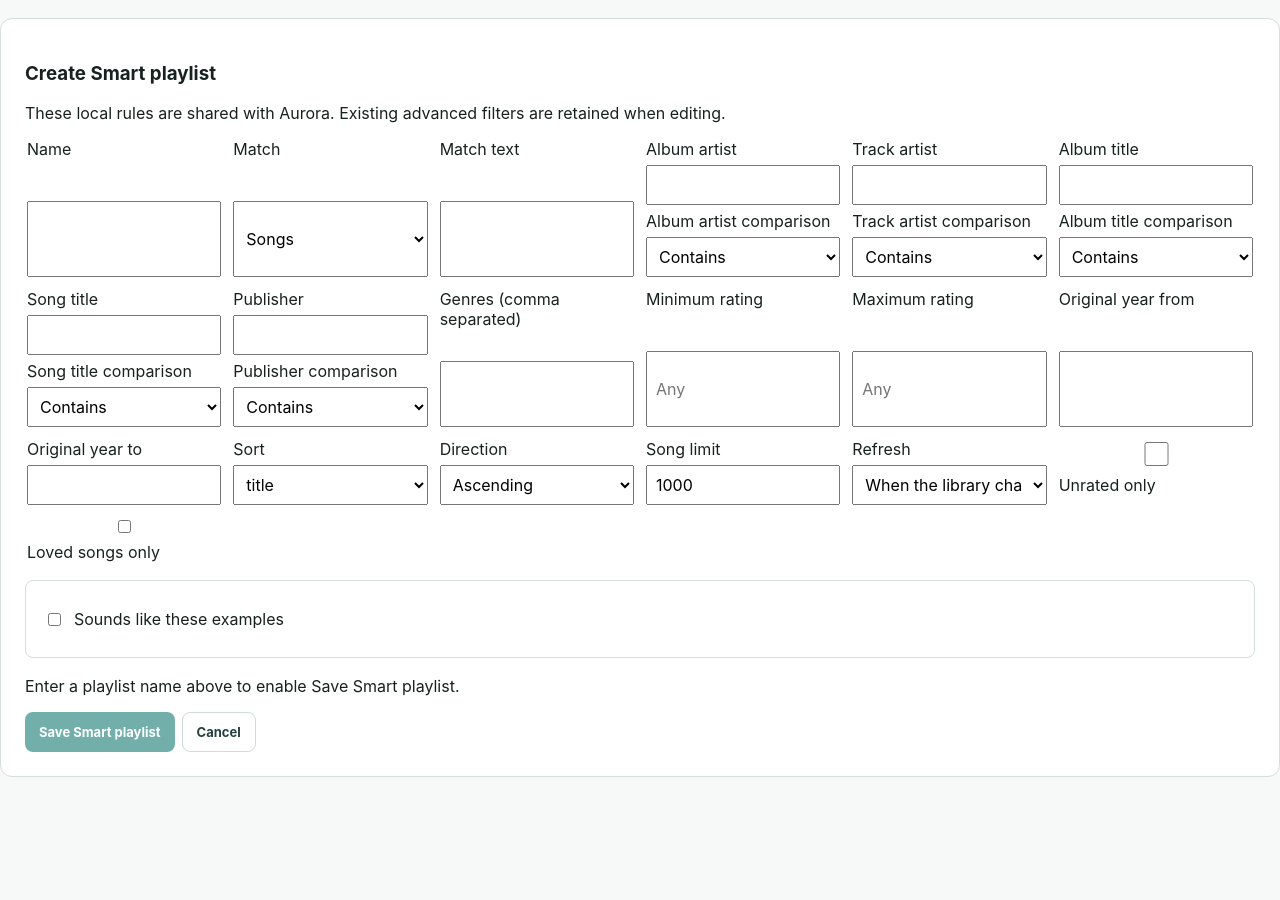
saves album stars in native points and stores limits and manual policy
Type "Album rules" into the field labelled "Name" at coordinates (124, 239), box [27,201,221,277]
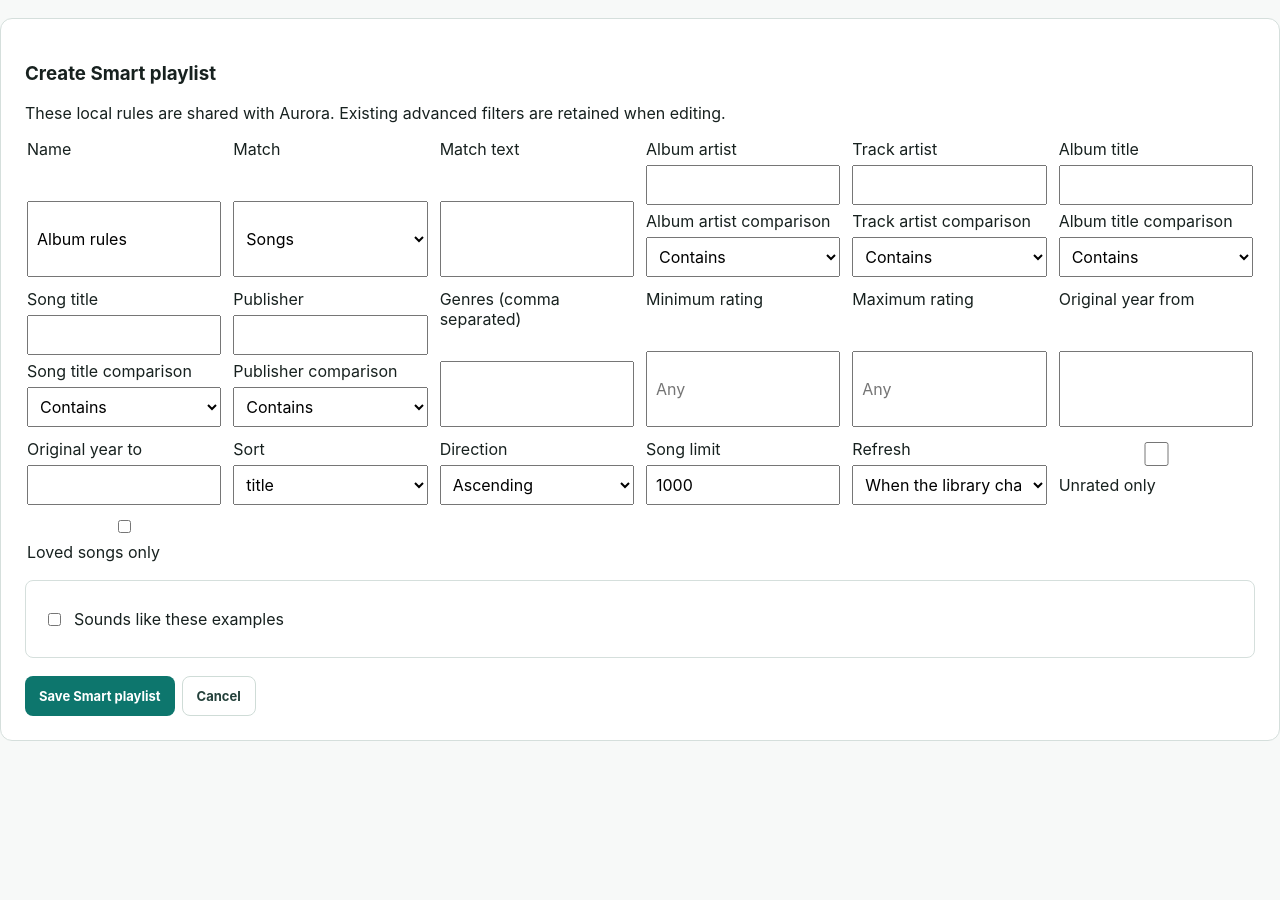
Select "Albums — all their songs" in the dropdown labelled "Match" at coordinates (330, 239), box [233,201,428,277]
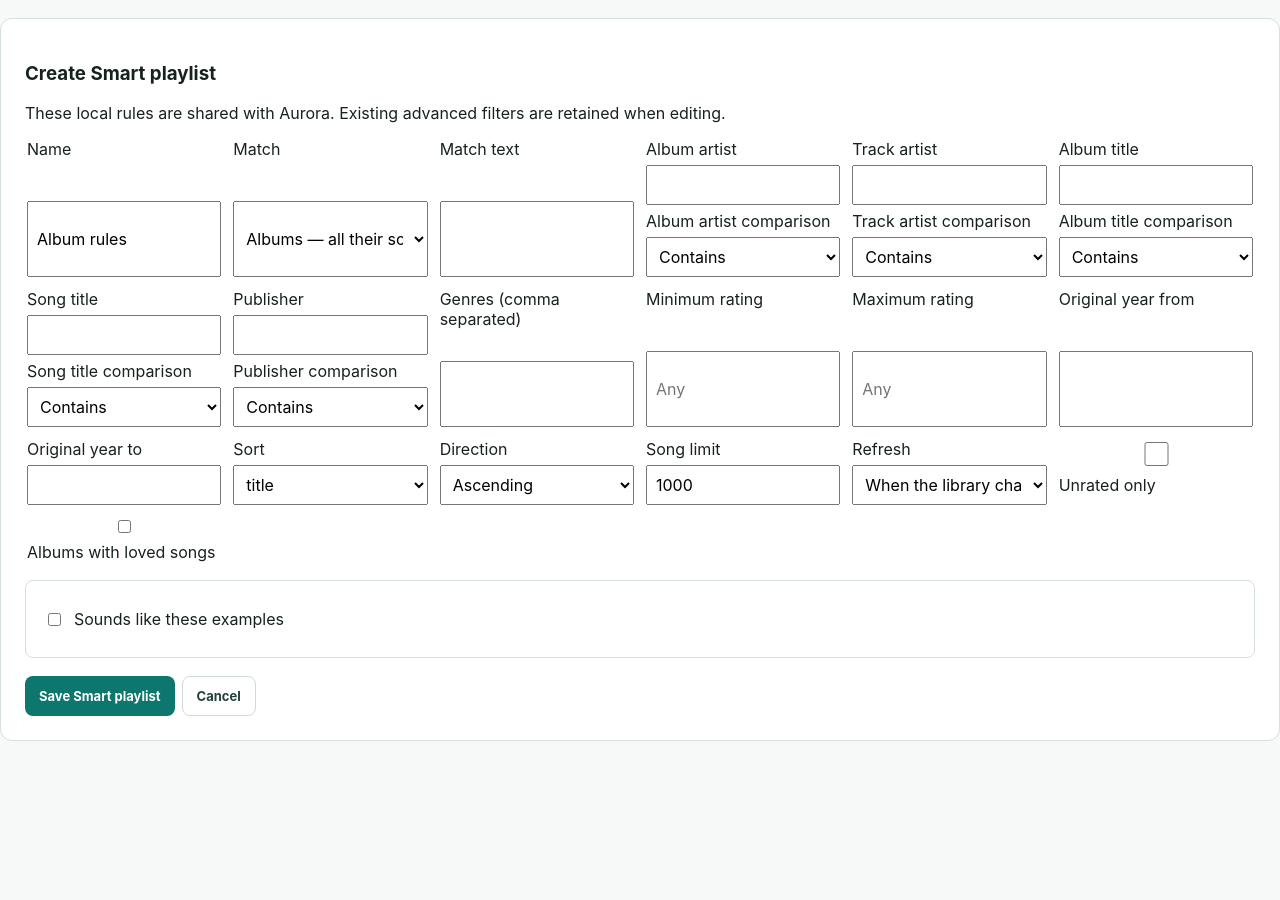
Type "4.25" into the number field labelled "Minimum rating" at coordinates (743, 389), box [646,351,840,427]
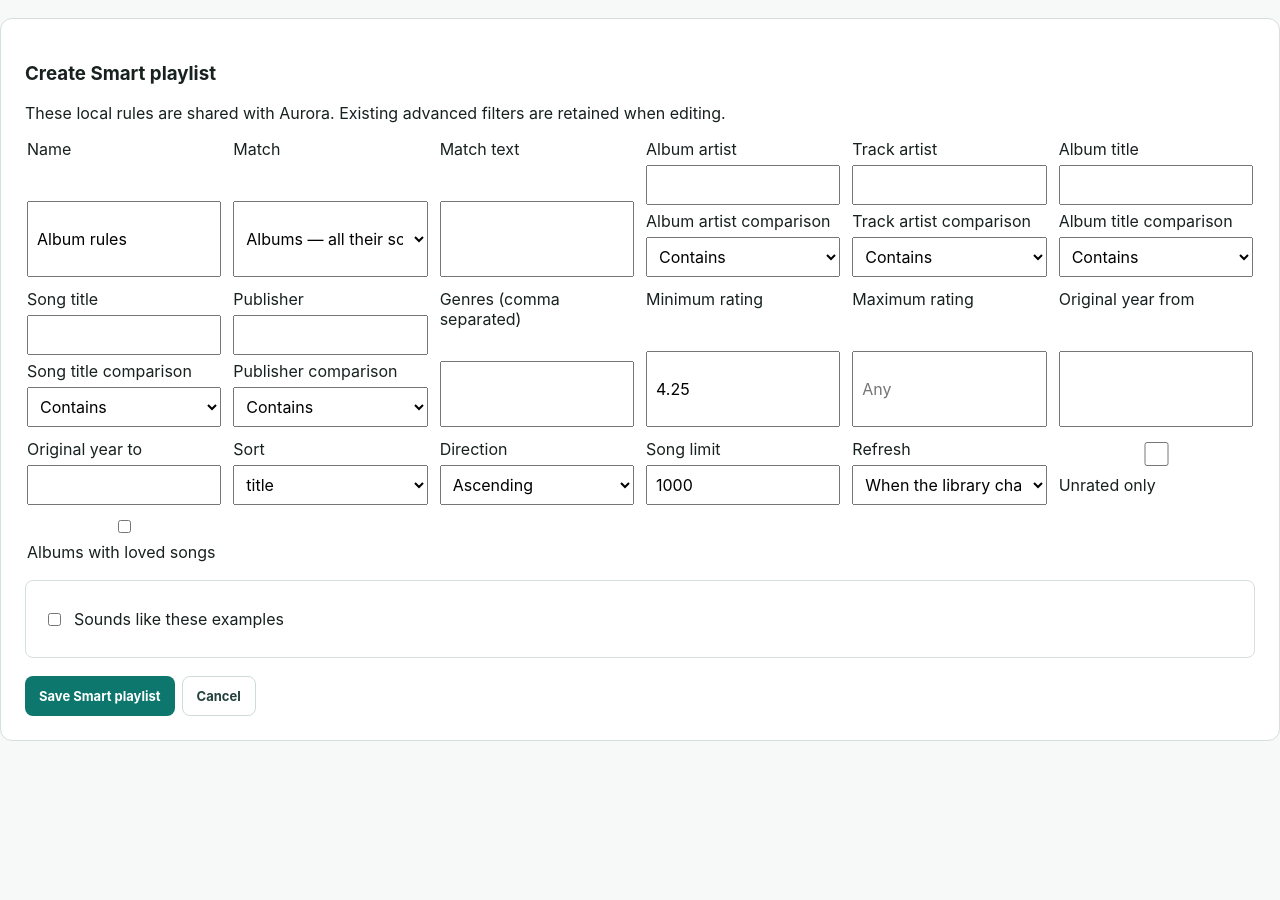
Replace the text in the number field labelled "Song limit" with "25" at coordinates (743, 485), box [646,465,840,505]
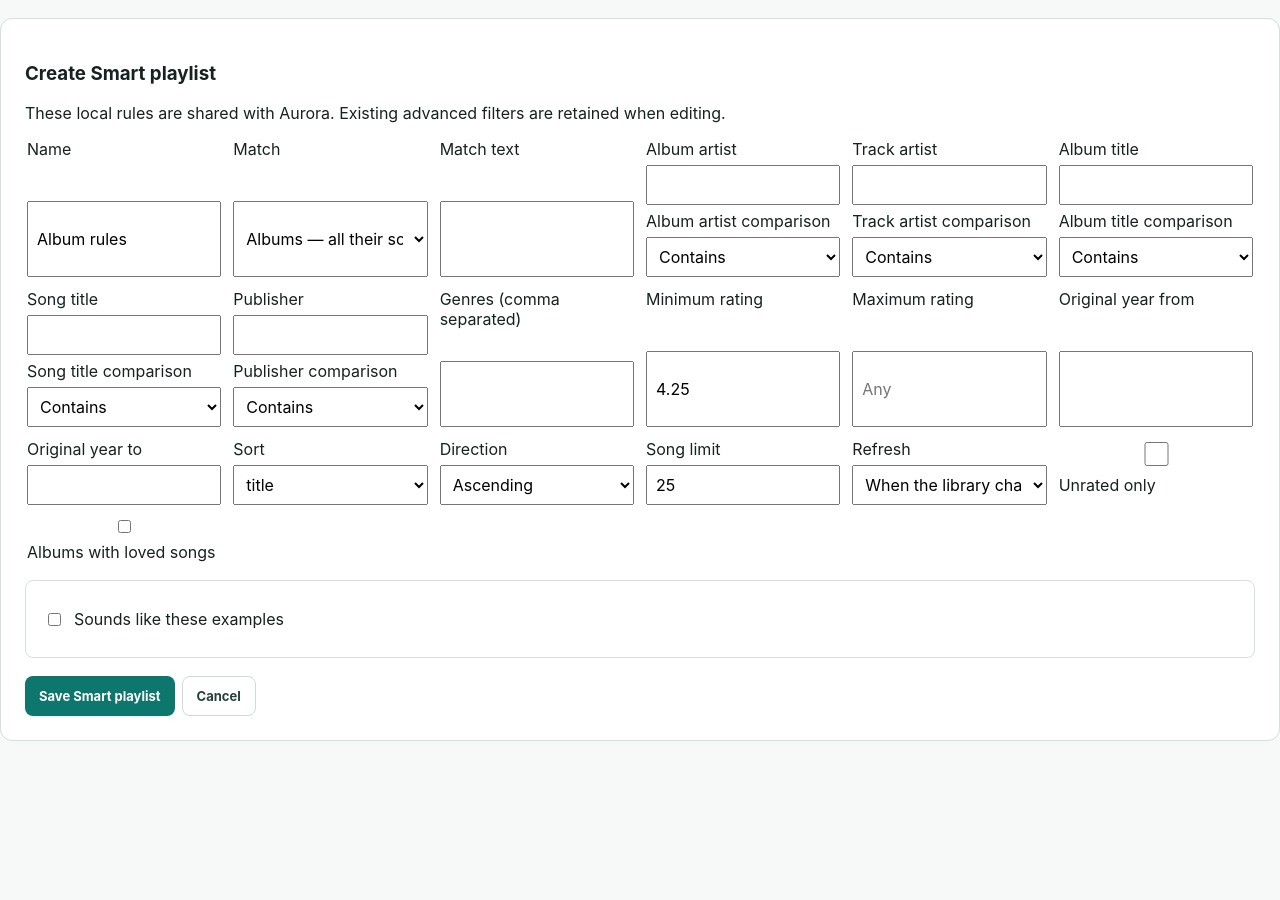
Select "Manual" in the dropdown labelled "Refresh" at coordinates (949, 485), box [852,465,1047,505]
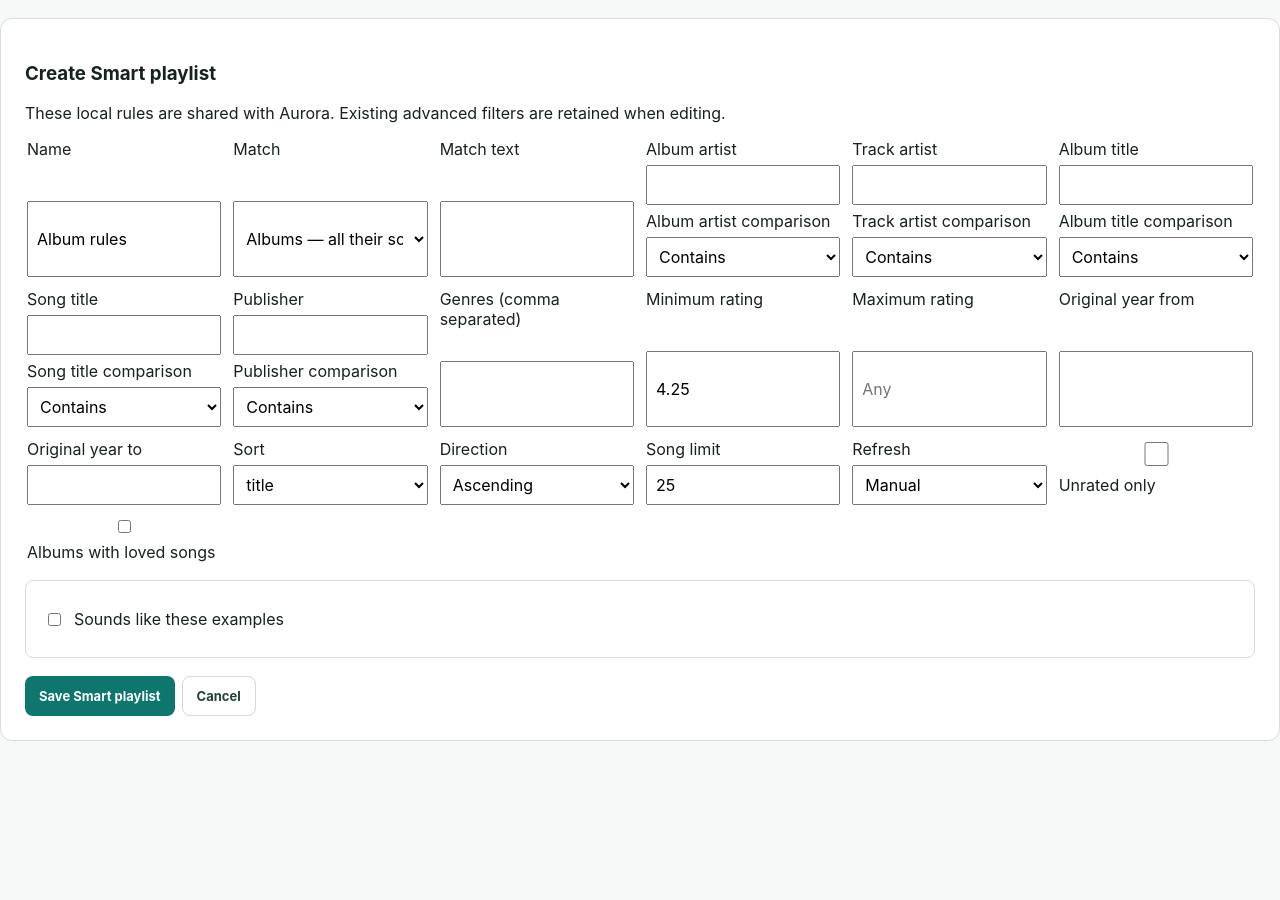
Click the button "Save Smart playlist" at coordinates (100, 696), box [25,676,174,716]
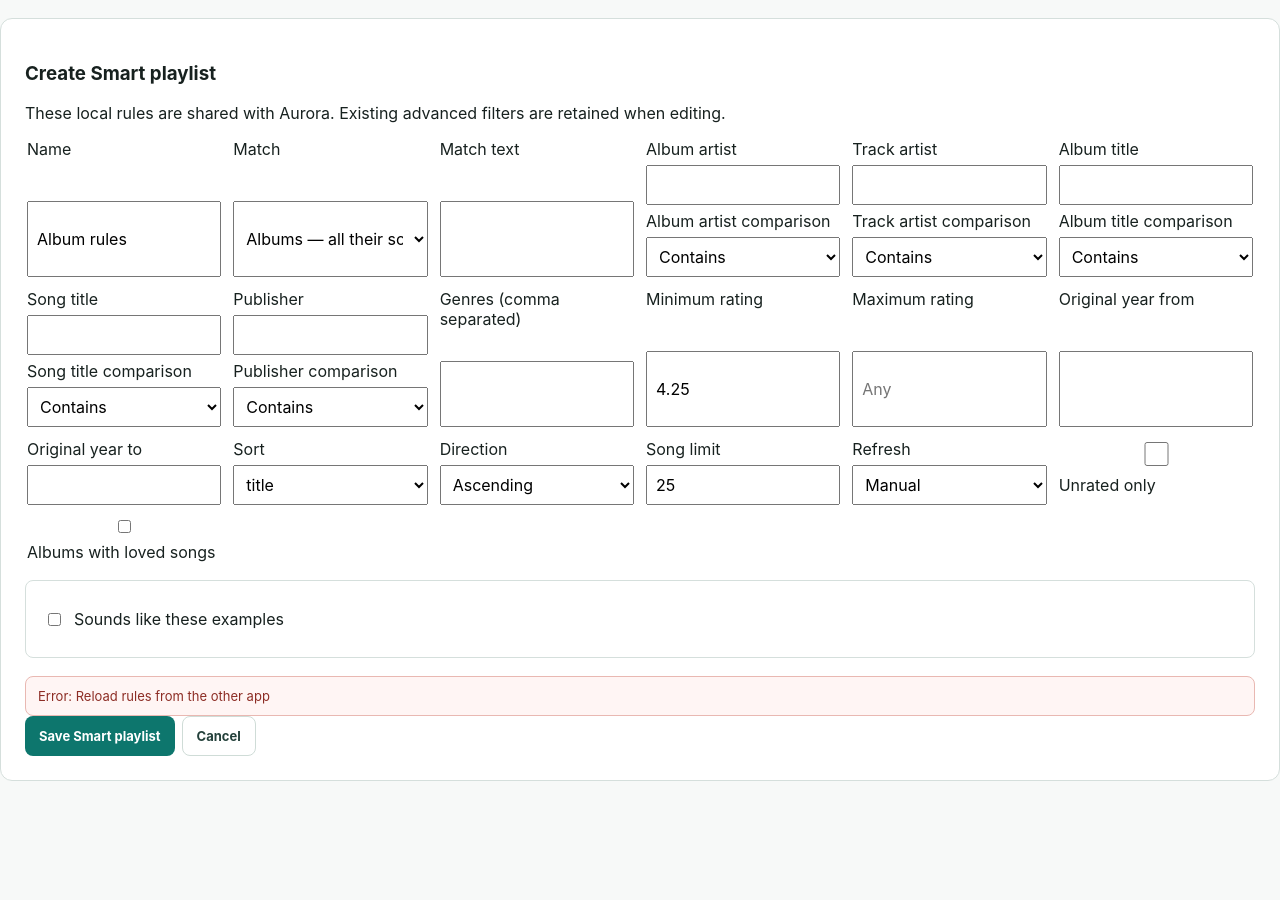
Check: the message shows "Reload rules", box [38,688,270,704]
